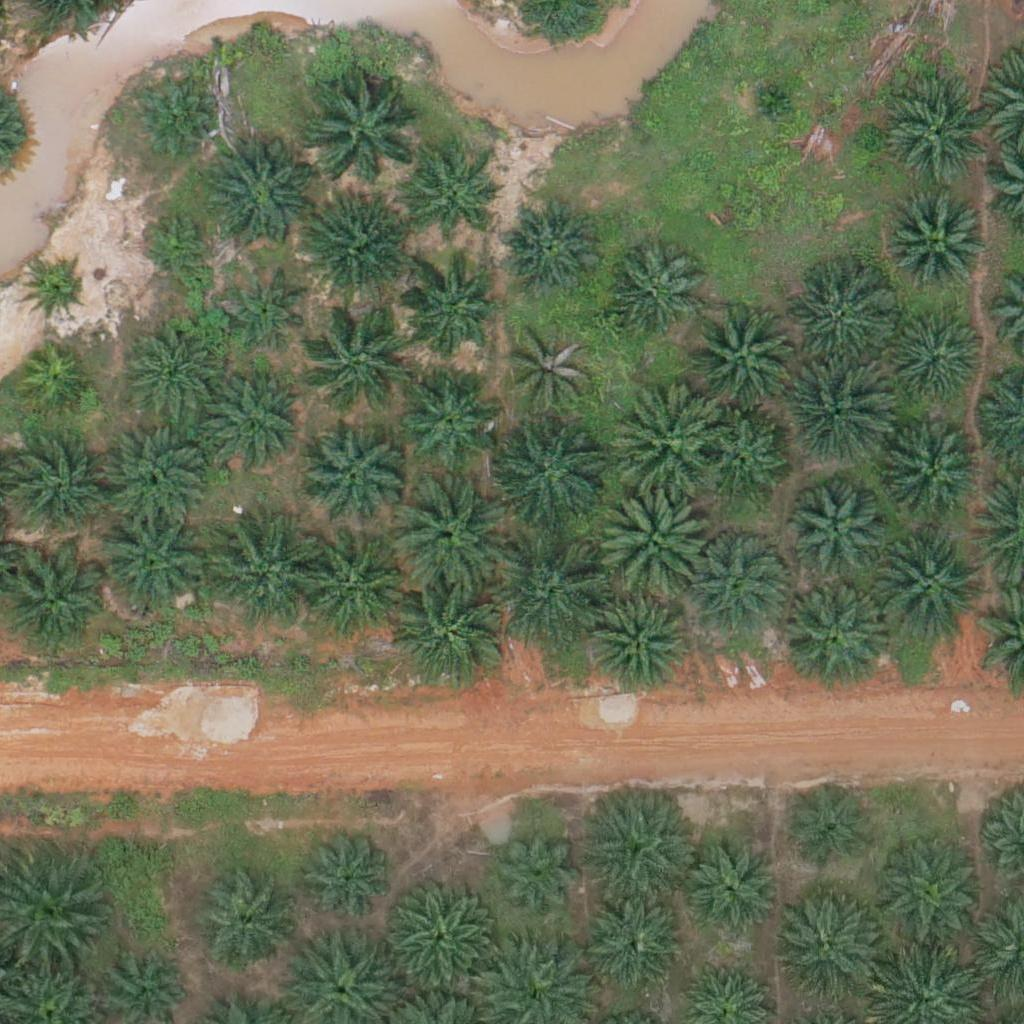Kelapa_Sawit: (782, 578, 895, 692), (869, 530, 982, 644), (379, 884, 492, 997), (764, 891, 877, 1004), (781, 357, 894, 470), (393, 578, 506, 691), (306, 68, 419, 181), (200, 141, 313, 254), (98, 419, 211, 532), (95, 507, 208, 620), (869, 836, 981, 950), (581, 785, 693, 899), (305, 299, 417, 413), (203, 516, 315, 630), (686, 301, 798, 414), (609, 384, 721, 497), (596, 482, 708, 595), (498, 537, 610, 650), (494, 416, 606, 529), (392, 478, 504, 591), (293, 535, 405, 648), (296, 196, 408, 309), (297, 827, 397, 928), (583, 897, 683, 998), (787, 487, 887, 588), (688, 531, 788, 632), (602, 242, 702, 343), (398, 262, 498, 363), (300, 424, 400, 525), (200, 375, 300, 476), (8, 441, 108, 542), (196, 877, 296, 977), (682, 832, 782, 932), (887, 87, 987, 187), (888, 196, 988, 296), (888, 312, 988, 412), (884, 428, 984, 528), (790, 272, 890, 372), (587, 594, 687, 694), (499, 197, 599, 297), (398, 366, 498, 466), (123, 323, 223, 423), (786, 782, 874, 870), (698, 415, 786, 503), (223, 269, 311, 357), (128, 77, 216, 165), (498, 830, 585, 918), (508, 328, 595, 416), (410, 158, 497, 246), (140, 208, 215, 283), (16, 346, 91, 421), (25, 259, 88, 322), (745, 74, 795, 125)
